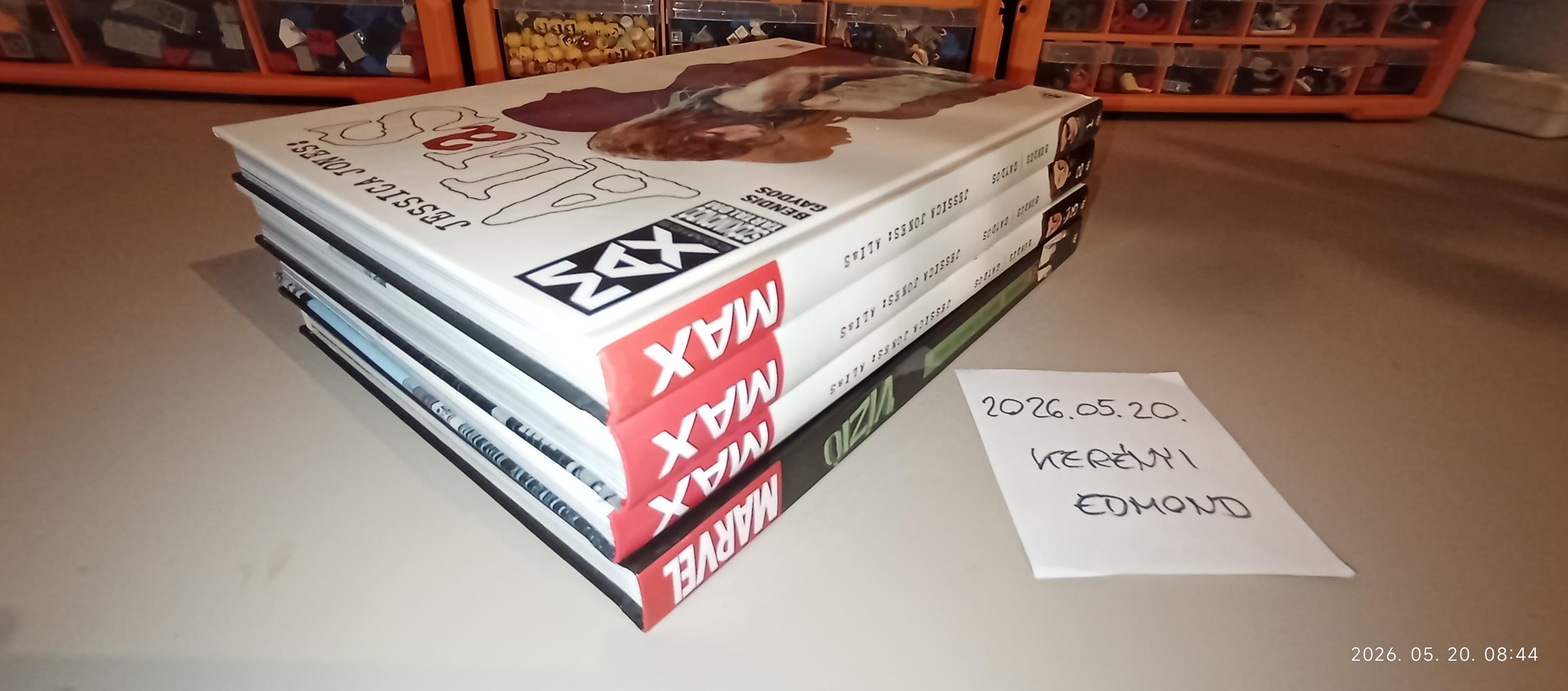comic: (219, 0, 1115, 391)
